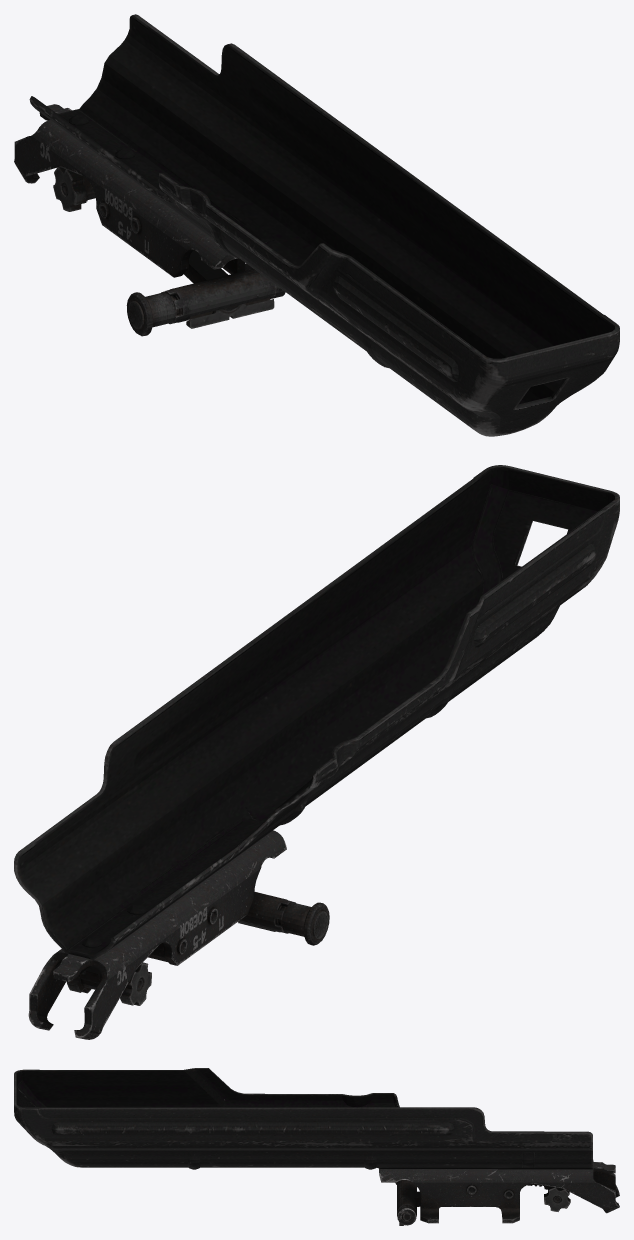
The picture shows the model from 3 angles, top to bottom: view 1: azimuth 30°, elevation 25°; view 2: azimuth 150°, elevation 25°; view 3: azimuth 270°, elevation 25°; orthographic projection. The views are drawn at different scales.
Parts seen in each view (by area): view 1: TW_5839a7742459773cf9693481_PZ_Import; view 2: TW_5839a7742459773cf9693481_PZ_Import; view 3: TW_5839a7742459773cf9693481_PZ_Import.
Part boxes in pixels (x1,y1,x2,y2): TW_5839a7742459773cf9693481_PZ_Import: [14, 14, 619, 436]; TW_5839a7742459773cf9693481_PZ_Import: [14, 465, 619, 1039]; TW_5839a7742459773cf9693481_PZ_Import: [14, 1068, 619, 1225].
Size of the model in its own units: 0.0257 by 0.1416 by 0.0323.
Materials: 1 (1 with a texture image).
